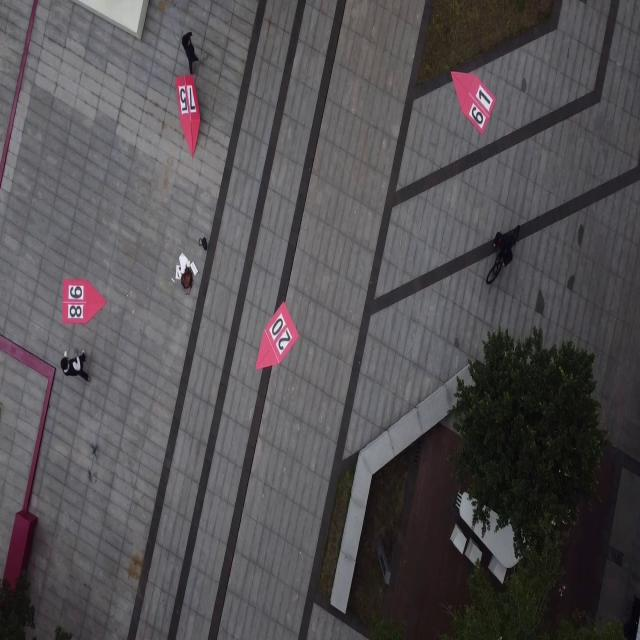-sign-: (254, 300, 300, 370)
